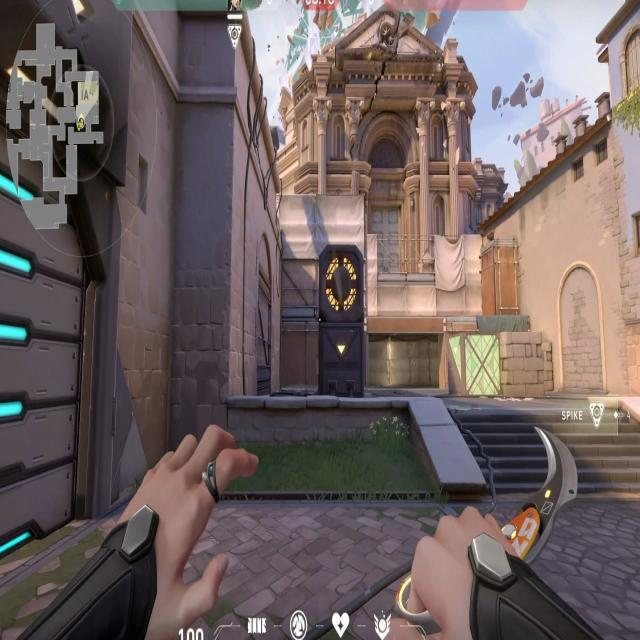A_Door: (0, 0, 126, 575)
A_Heaven_Box: (479, 240, 521, 318)
A_Heaven_Wall: (277, 191, 366, 326)
A_Hell: (365, 313, 449, 394)
A_Site_Box: (447, 329, 543, 402)
